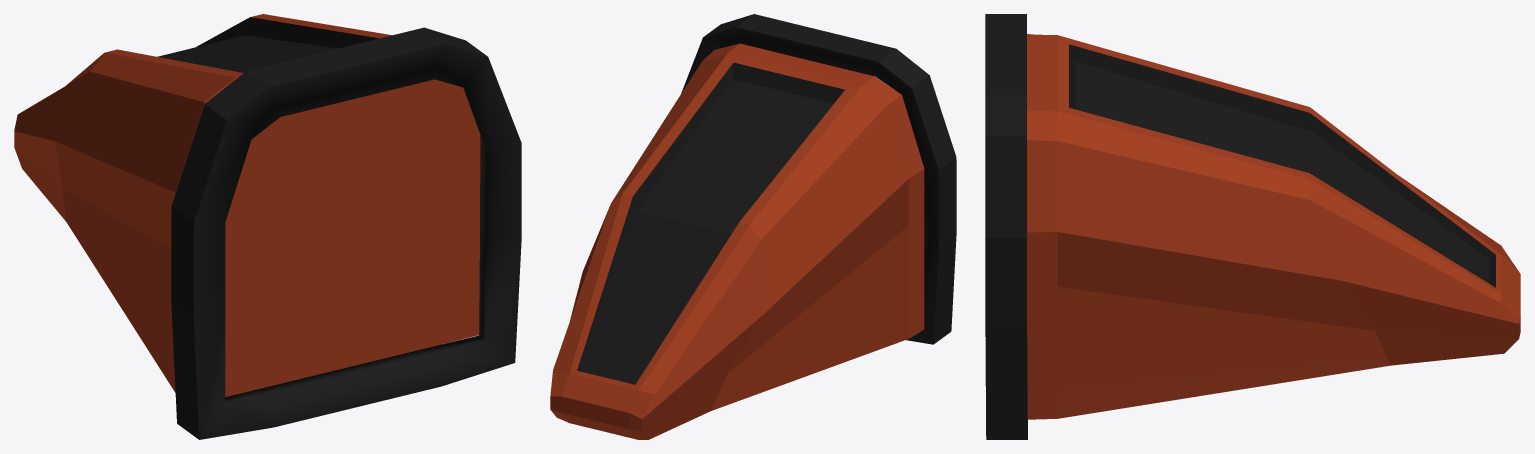
The model's file is czesc_7.fbx.
The picture shows the model from 3 angles, left to right: view 1: azimuth 30°, elevation 25°; view 2: azimuth 150°, elevation 25°; view 3: azimuth 270°, elevation 25°; orthographic projection. The views are drawn at different scales.
Parts seen in each view (by area): view 1: Cube.007; view 2: Cube.007; view 3: Cube.007.
Boxes of the visible parts, bbox=[...] form: Cube.007: bbox=[14, 14, 521, 439]; Cube.007: bbox=[550, 14, 956, 439]; Cube.007: bbox=[985, 14, 1520, 439].
Size of the model in its own units: 301 by 299 by 455.
